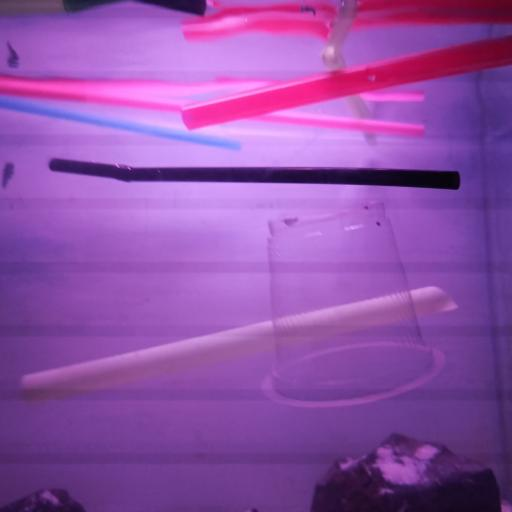plastic_cup: (256, 197, 447, 413)
plastic_straw: (19, 280, 456, 406), (2, 74, 427, 137), (47, 156, 464, 192), (0, 94, 242, 153), (175, 0, 512, 35)
